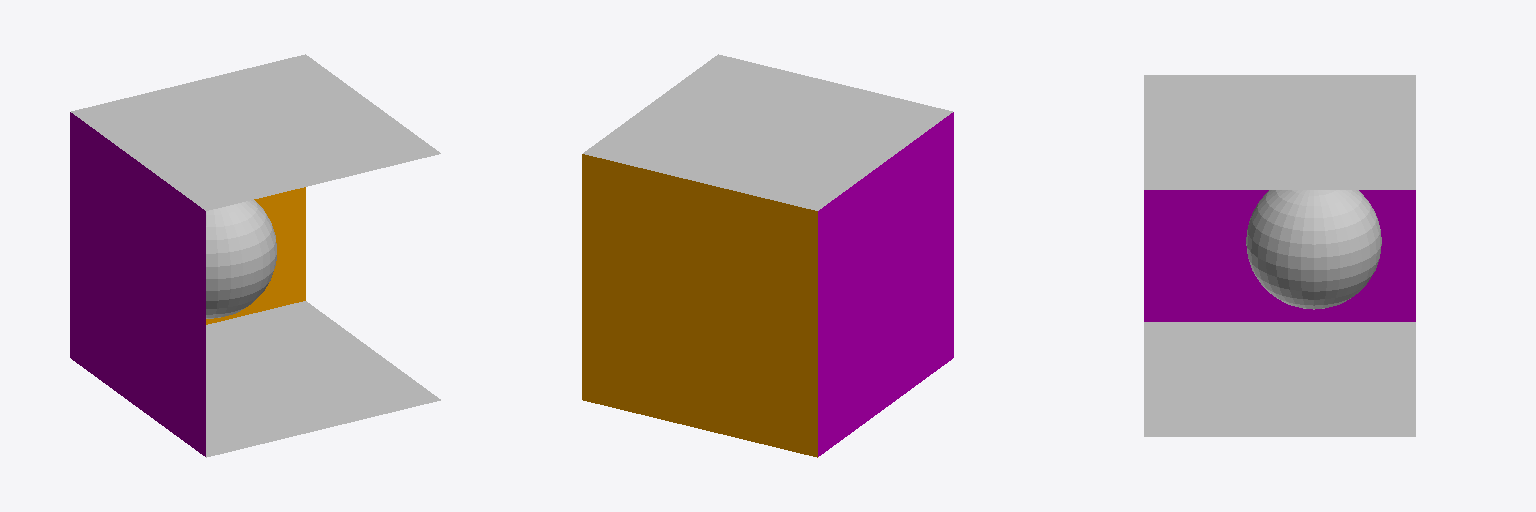
Rendered from demo2.obj.
The picture shows the model from 3 angles: view 1: azimuth 30°, elevation 25°; view 2: azimuth 150°, elevation 25°; view 3: azimuth 270°, elevation 25°; orthographic projection.
Visible parts, largest first — view 1: Plane.002_Plane.003, Plane.003_Plane.004, Plane_Plane.001, Sphere, Plane.001_Plane.002; view 2: Plane.001_Plane.002, Plane.002_Plane.003, Plane.003_Plane.004; view 3: Plane_Plane.001, Plane.003_Plane.004, Plane.002_Plane.003, Sphere.
Boxes of the visible parts, <box> form: Plane.002_Plane.003: <box>70,112,205,456</box>; Plane.003_Plane.004: <box>71,54,440,210</box>; Plane_Plane.001: <box>206,301,440,457</box>; Sphere: <box>206,200,276,318</box>; Plane.001_Plane.002: <box>206,187,305,324</box>; Plane.001_Plane.002: <box>582,154,817,457</box>; Plane.002_Plane.003: <box>818,112,953,456</box>; Plane.003_Plane.004: <box>583,54,952,210</box>; Plane_Plane.001: <box>1144,322,1415,436</box>; Plane.003_Plane.004: <box>1144,75,1415,189</box>; Plane.002_Plane.003: <box>1144,190,1415,321</box>; Sphere: <box>1246,190,1381,309</box>.
Bounding box in the file's own units: 2 × 2 × 2.